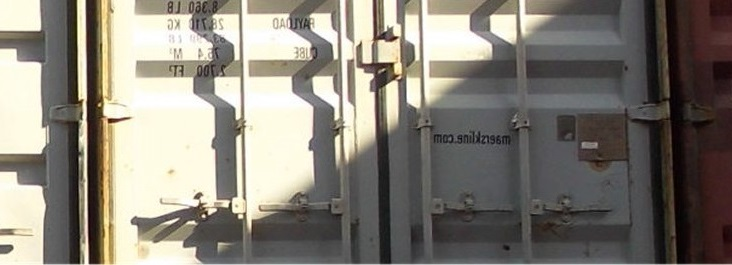container_door: (95, 1, 685, 264)
